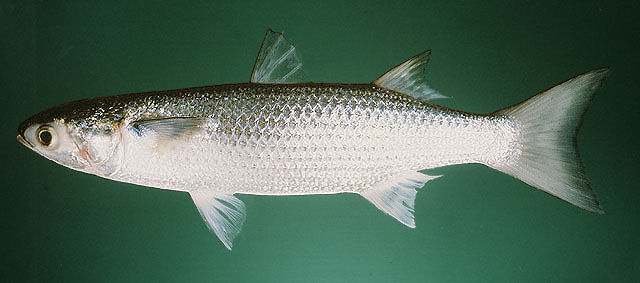fish: (16, 28, 610, 252)
